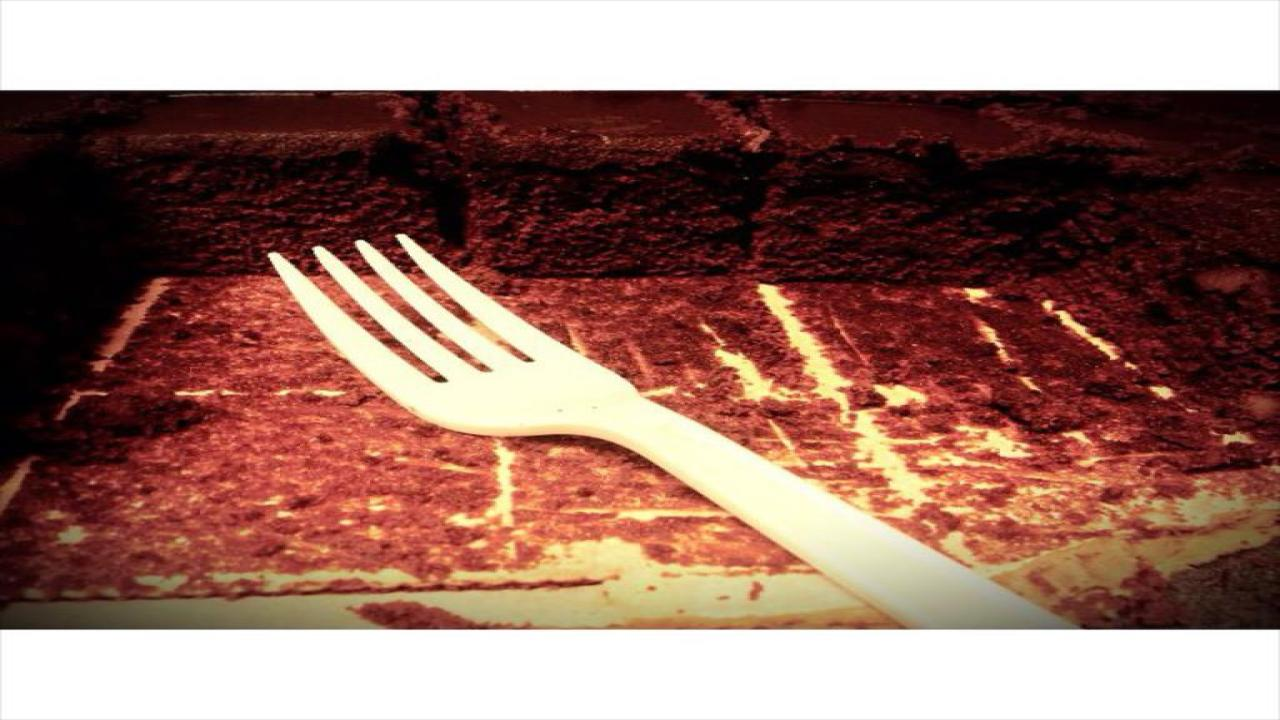fork: (261, 229, 1083, 628)
